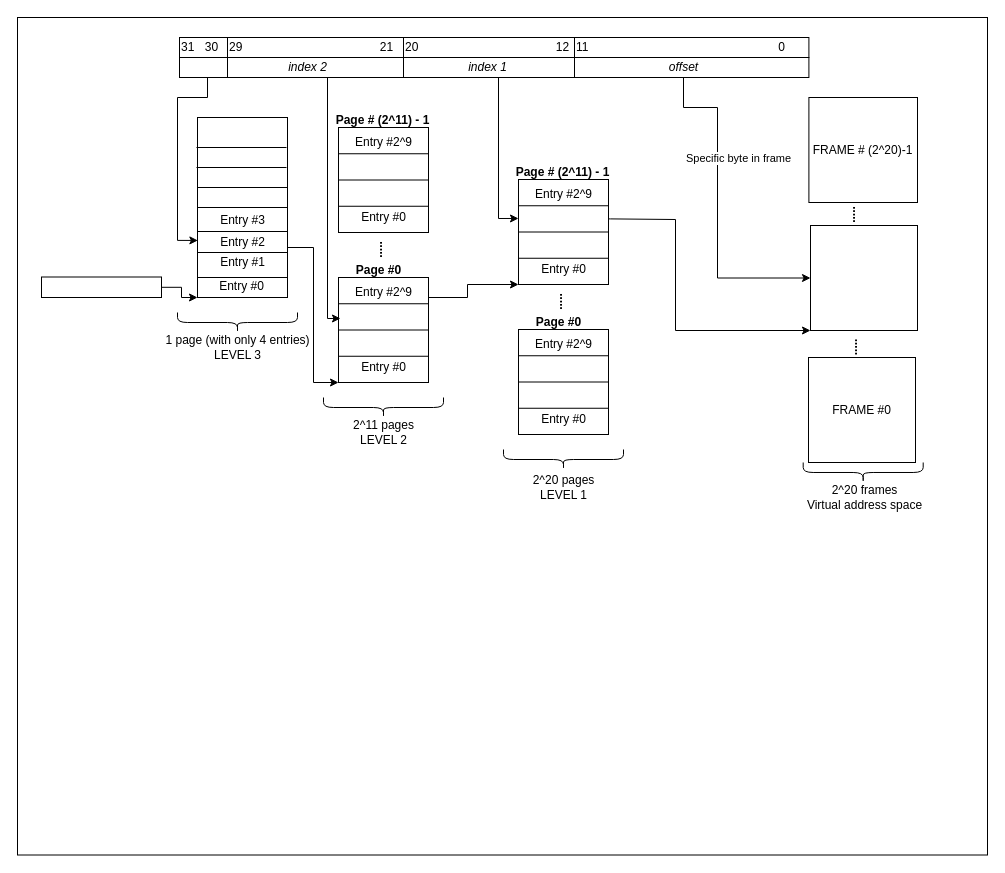
The diagram is 1005 pixels wide and 873 high, and some of its shapes have lost their labels. Here are the shapes that lost their labels. From the top down, the centre of each, then its label:
the point at 203,67: index 3
the point at 101,287: CR3
the point at 864,277: FRAME #2345
